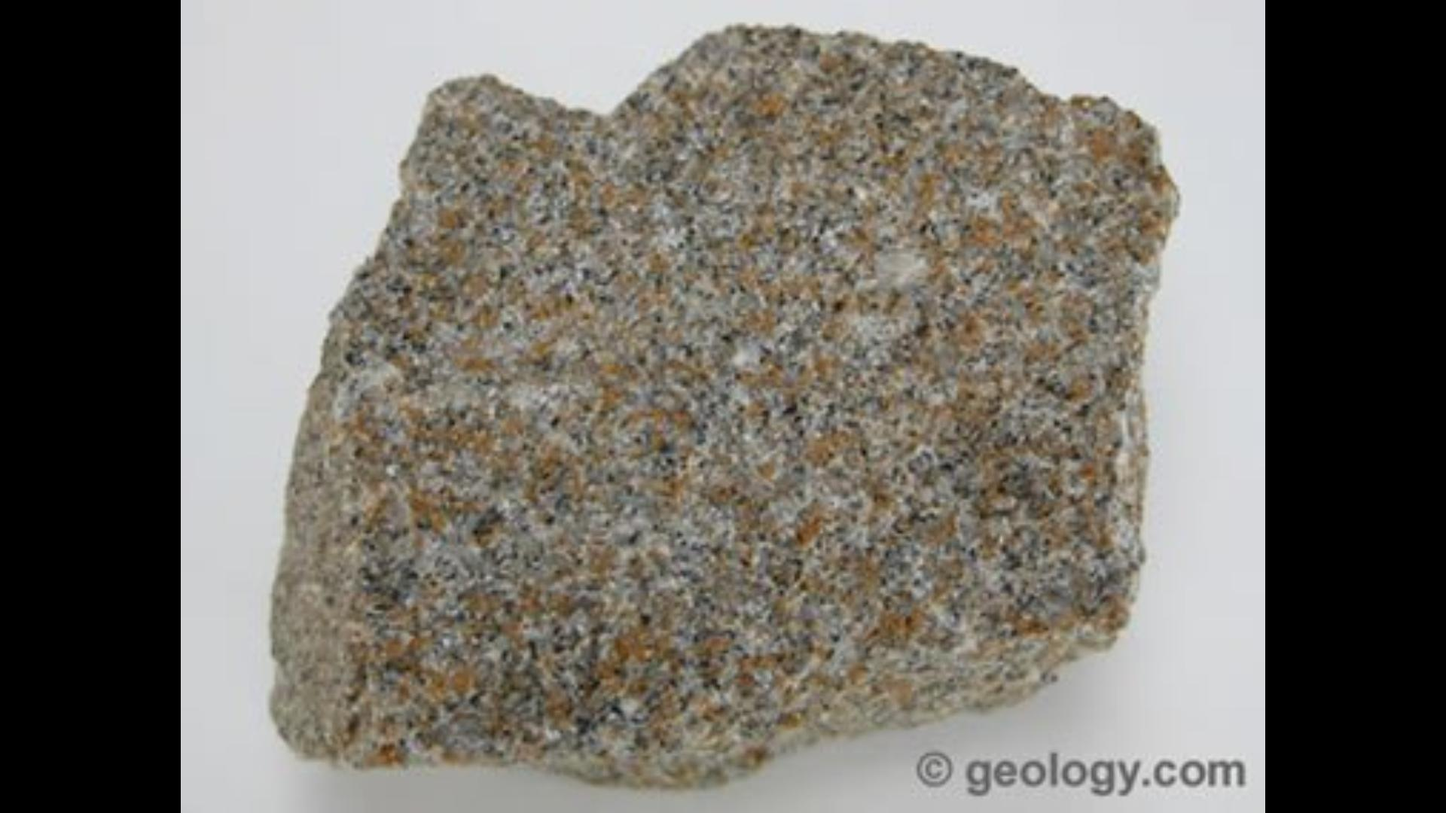rock: (272, 29, 1174, 784)
